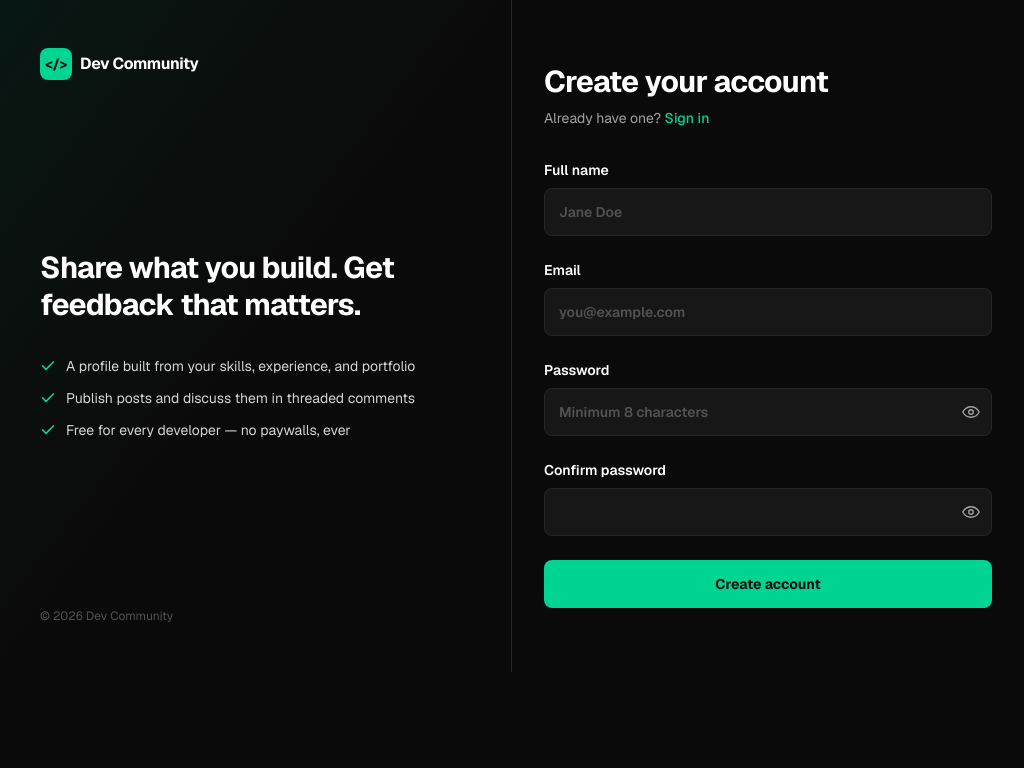
SignupForm with the real mutation hook › shows the server's message and never tries to log in when the signup is rejected
Step 1. Type "Ada Lovelace" into the field labelled "Full name" → (768, 212), box [544,188,992,236]
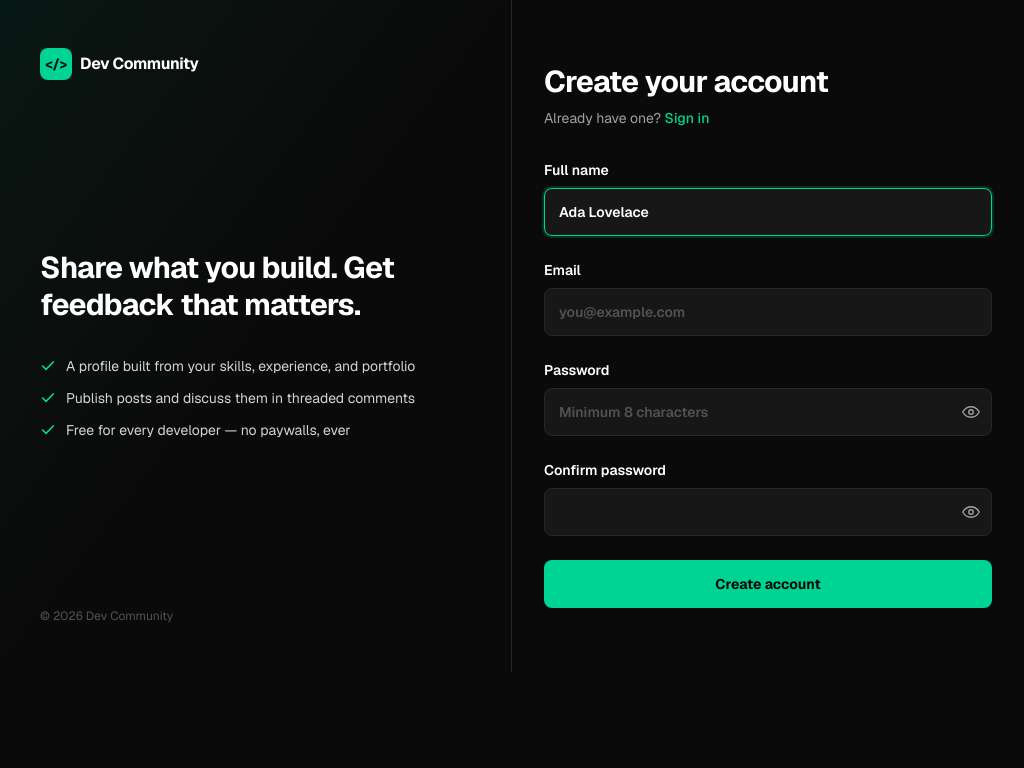
Step 2. Type "ada@example.com" into the field labelled "Email" → (768, 312), box [544,288,992,336]
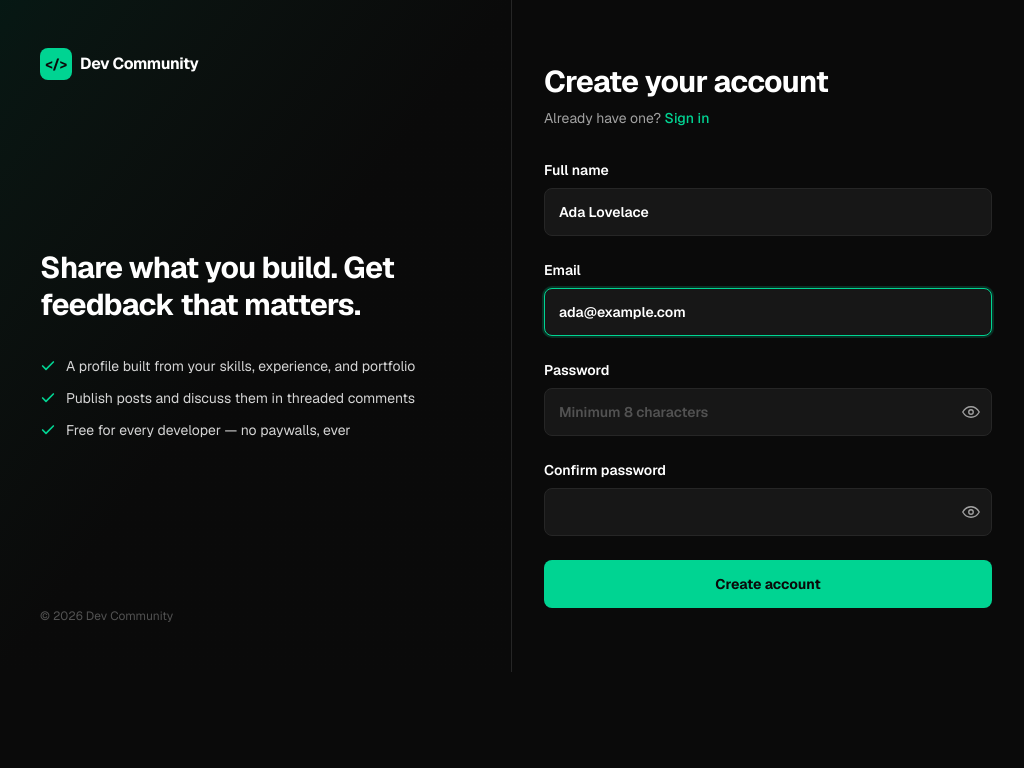
Step 3. Type "long-enough-1" into the password field labelled "Password" → (768, 412), box [544,388,992,436]
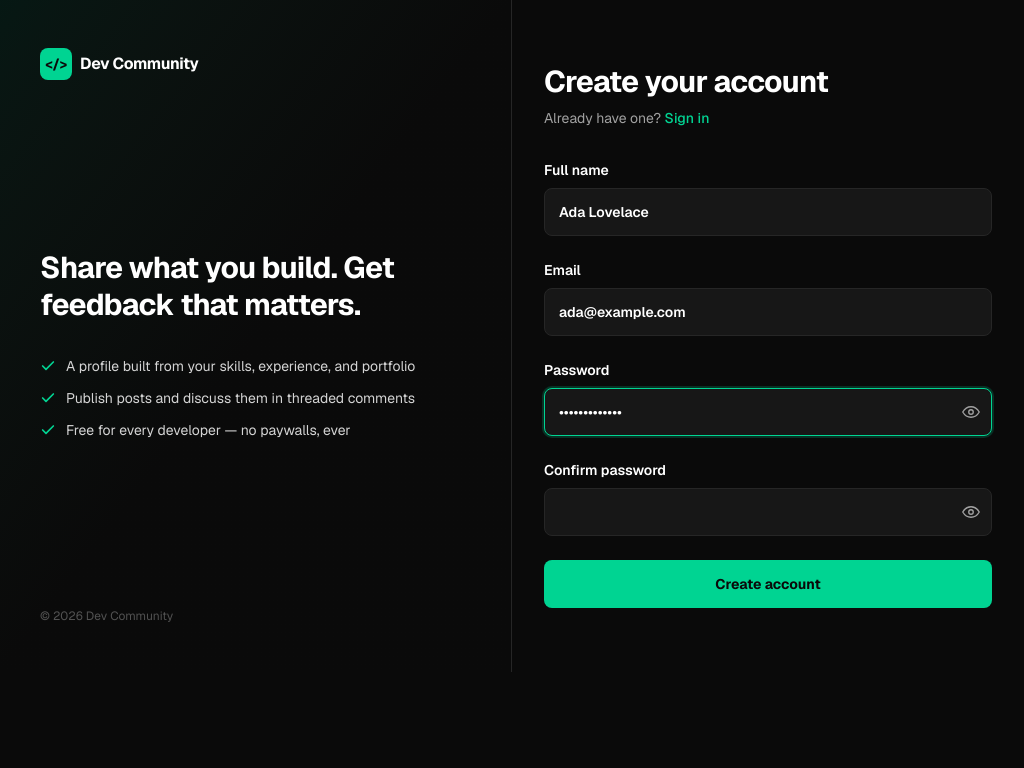
Step 4. Type "long-enough-1" into the password field labelled "Confirm password" → (768, 512), box [544,488,992,536]
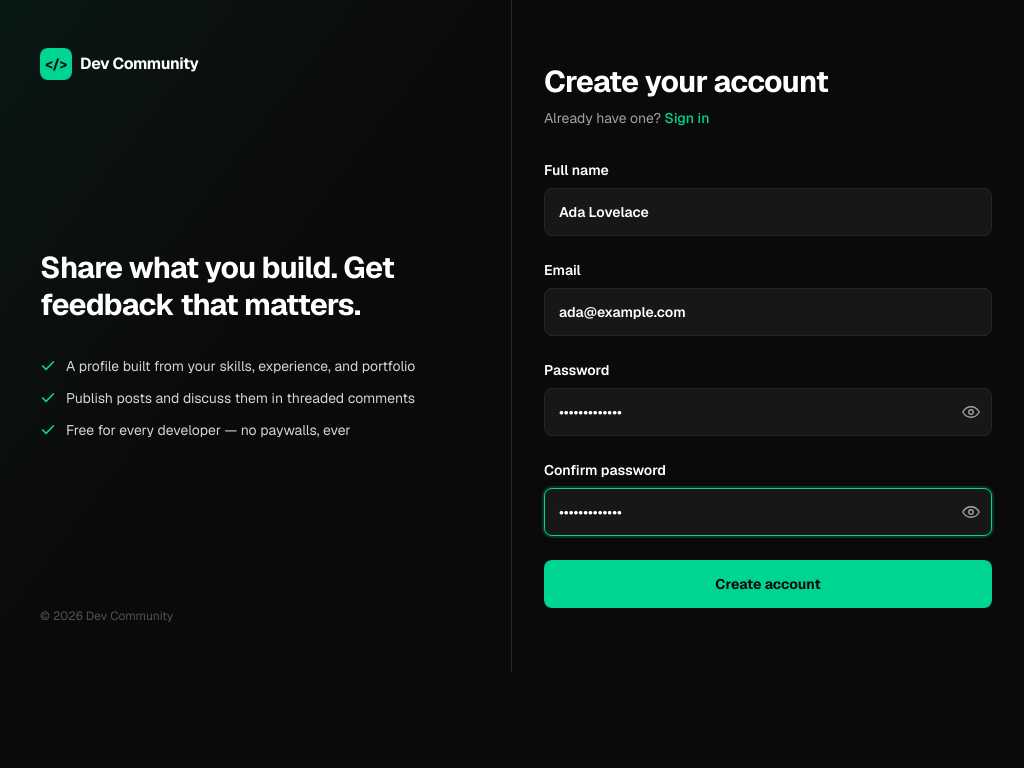
Step 5. Click the button "Create account" → click(768, 584), box [544,560,992,608]
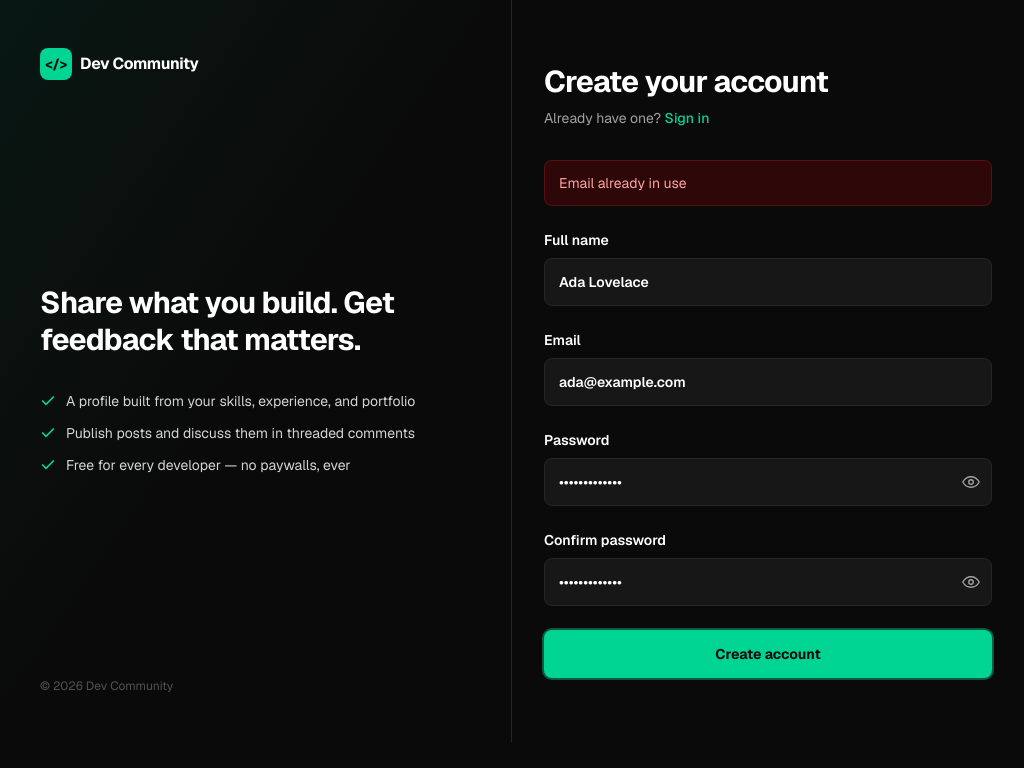
Expected: the message reads "Email already in use", [559,174,686,192]
